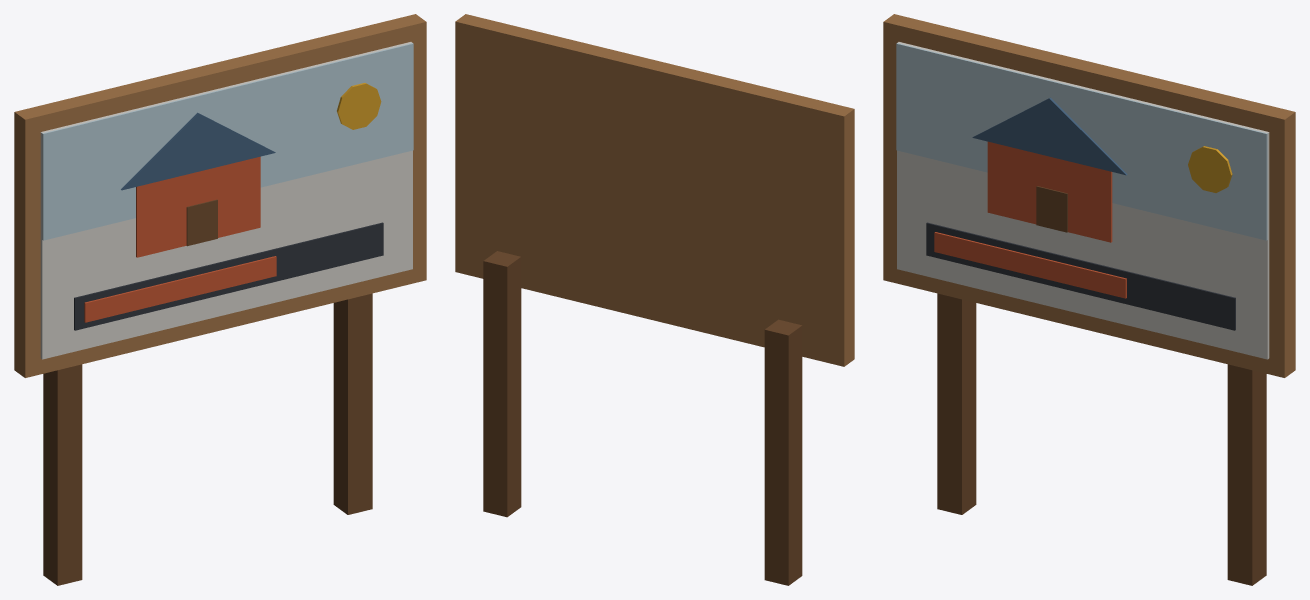
File: v2-billboard-a.glb
The picture shows the model from 3 angles, left to right: view 1: azimuth 30°, elevation 25°; view 2: azimuth 150°, elevation 25°; view 3: azimuth 330°, elevation 25°; orthographic projection. The views are drawn at different scales.
Parts seen in each view (by area): view 1: v2-billboard-a; view 2: v2-billboard-a; view 3: v2-billboard-a.
Boxes of the visible parts, left/top/right/bottom form: v2-billboard-a: left=14, top=14, right=426, bottom=585; v2-billboard-a: left=455, top=14, right=854, bottom=585; v2-billboard-a: left=883, top=14, right=1295, bottom=585.
Bounding box in the file's own units: 1.3 × 1.5 × 0.1659.
